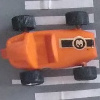naranja: (3, 12, 96, 84)
